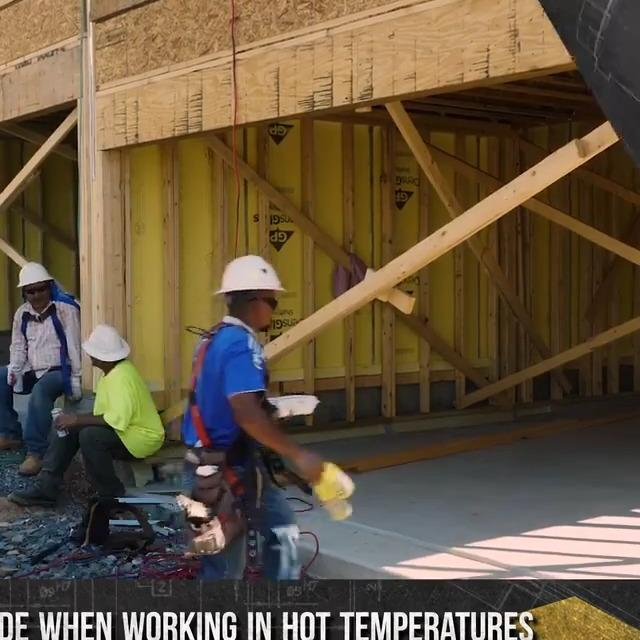Gloves: (68, 376, 82, 402)
Hardhat: (213, 255, 289, 299), (80, 324, 131, 363), (17, 262, 55, 287)
NO-Mask: (252, 308, 273, 329), (27, 296, 50, 308), (90, 359, 101, 367)
NO-Safety Vest: (186, 324, 262, 451), (97, 371, 156, 432), (20, 302, 71, 371)
Person: (182, 255, 324, 576), (7, 324, 165, 544), (0, 261, 83, 475)
